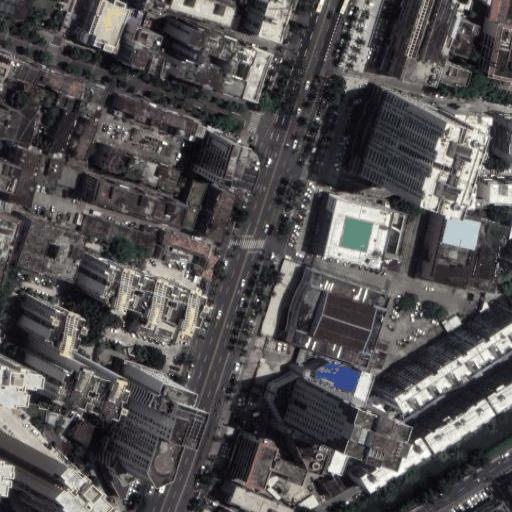building: (381, 299, 512, 399), (286, 271, 393, 368), (82, 258, 186, 335), (415, 210, 506, 292), (356, 87, 425, 194), (0, 421, 82, 510), (112, 396, 176, 507), (0, 432, 76, 512), (325, 200, 406, 270), (14, 218, 87, 284), (422, 396, 498, 458), (16, 349, 87, 409), (360, 437, 432, 495), (284, 377, 352, 438), (114, 95, 203, 140), (251, 254, 295, 338), (78, 213, 154, 257), (298, 360, 373, 399), (93, 182, 164, 222), (165, 54, 236, 93), (167, 21, 231, 57), (111, 434, 153, 487), (73, 0, 118, 49), (117, 395, 162, 443), (197, 135, 240, 184), (17, 295, 61, 339), (238, 48, 273, 103), (220, 482, 280, 512), (261, 374, 298, 422), (11, 151, 42, 207), (178, 179, 209, 233), (206, 192, 236, 242), (235, 438, 266, 485), (294, 441, 333, 477), (447, 16, 481, 57), (14, 101, 43, 147), (121, 23, 153, 64), (163, 232, 211, 258), (437, 59, 473, 92), (124, 156, 161, 188), (268, 458, 305, 487), (77, 83, 106, 120), (489, 114, 512, 160), (53, 110, 77, 154), (75, 116, 97, 157), (36, 155, 63, 188), (159, 245, 192, 268), (104, 149, 131, 177), (129, 385, 164, 406), (154, 167, 180, 194), (467, 496, 510, 512), (36, 70, 67, 92), (158, 202, 184, 228), (56, 91, 82, 114), (484, 173, 512, 194), (56, 165, 79, 189), (327, 451, 348, 476), (290, 495, 319, 512), (201, 252, 219, 279), (63, 77, 86, 97), (323, 477, 342, 497), (141, 225, 156, 236)
